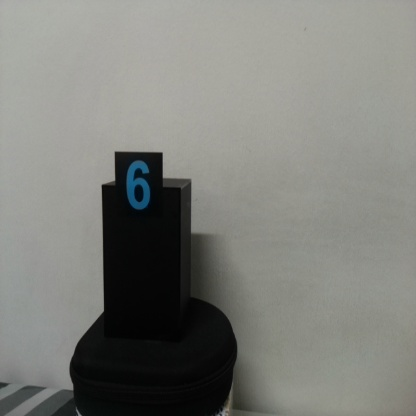id_6: (114, 151, 164, 227)
